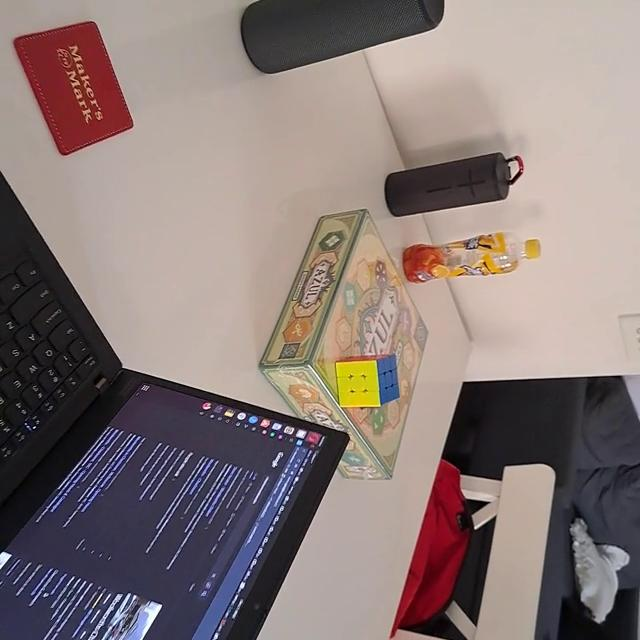rubix_cube: (332, 352, 402, 411)
